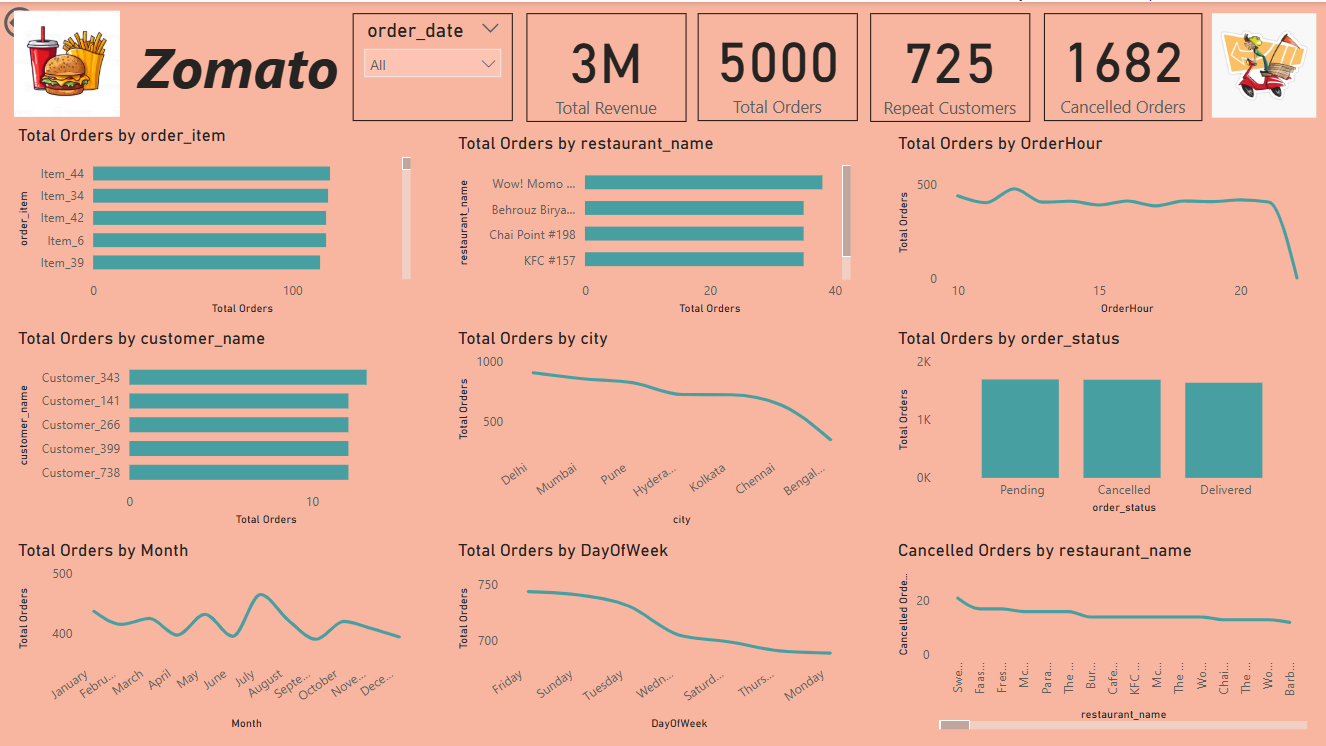

What the dashboard file says about the page in this screenshot:
{"tool":"powerbi","page":{"name":"Page 2","canvas":[1280,720],"ordinal":1},"visuals":[{"type":"card","fields":{"Values":["Measures (2).Total Revenue"]},"box":[509,10.4,154.2,105.1],"z":0},{"type":"card","fields":{"Values":["Measures (2).Total Orders"]},"box":[674.1,10.4,154.2,103.7],"z":1000},{"type":"card","fields":{"Values":["Measures (2).Repeat Customers"]},"box":[840.6,10.4,154.2,105.1],"z":2000},{"type":"card","fields":{"Values":["Measures (2).Cancelled Orders"]},"box":[1008.5,10.4,152.9,103.7],"z":3000},{"type":"actionButton","box":[0,0,100,40],"z":4000},{"type":"slicer","fields":{"Values":["orders.order_date"]},"box":[341.1,10.4,154.2,103.7],"z":5000},{"type":"barChart","fields":{"Y":["Measures (2).Total Orders"],"Category":["orders.order_item"]},"box":[13.6,118.7,389,188.4],"z":6000},{"type":"lineChart","fields":{"Y":["Measures (2).Total Orders"],"Category":["orders.OrderHour"]},"box":[862.6,125.6,405.4,181.5],"z":7000},{"type":"lineChart","fields":{"Category":["restaurants_data.city"],"Y":["Measures (2).Total Orders"]},"box":[438.5,313.9,389,196.5],"z":8000},{"type":"barChart","fields":{"Y":["Measures (2).Total Orders"],"Category":["restaurants_data.restaurant_name"]},"box":[438.5,125.6,389,181.5],"z":9000},{"type":"barChart","fields":{"Category":["customers.customer_name"],"Y":["Measures (2).Total Orders"]},"box":[13.6,313.9,389,196.5],"z":10000},{"type":"columnChart","fields":{"Category":["orders.order_status"],"Y":["Measures (2).Total Orders"]},"box":[862.6,313.9,405.4,185.6],"z":11000},{"type":"lineChart","fields":{"Y":["Measures (2).Total Orders"],"Category":["orders.order_date.Variation.Date Hierarchy.Year","orders.order_date.Variation.Date Hierarchy.Quarter","orders.order_date.Variation.Date Hierarchy.Month","orders.order_date.Variation.Date Hierarchy.Day"]},"box":[13.6,518.7,389,188.4],"z":12000},{"type":"lineChart","fields":{"Y":["Measures (2).Total Orders"],"Category":["orders.DayOfWeek"]},"box":[438.5,518.7,389,188.4],"z":13000},{"type":"image","box":[1161.5,5.5,118.7,110.6],"z":14000},{"type":"image","box":[0,4.1,131,111.9],"z":15000},{"type":"lineChart","fields":{"Category":["restaurants_data.restaurant_name"],"Y":["Measures (2).Cancelled Orders"]},"box":[862.6,518.7,405.4,188.4],"z":16000},{"type":"textbox","box":[120.1,20.5,221.1,94.2],"z":17000}]}

Visuals, with their boxes in screenshot pixels (x1, y1, x2, y2), scaled from the page's 1280x720 canvas onto the 1326x746 screenshot:
card - Measures (2).Total Revenue: {"x1": 527, "y1": 11, "x2": 687, "y2": 120}
card - Measures (2).Total Orders: {"x1": 698, "y1": 11, "x2": 858, "y2": 118}
card - Measures (2).Repeat Customers: {"x1": 871, "y1": 11, "x2": 1031, "y2": 120}
card - Measures (2).Cancelled Orders: {"x1": 1045, "y1": 11, "x2": 1203, "y2": 118}
actionButton: {"x1": 0, "y1": 0, "x2": 104, "y2": 41}
slicer - orders.order_date: {"x1": 353, "y1": 11, "x2": 513, "y2": 118}
barChart - Measures (2).Total Orders x orders.order_item: {"x1": 14, "y1": 123, "x2": 417, "y2": 318}
lineChart - Measures (2).Total Orders x orders.OrderHour: {"x1": 894, "y1": 130, "x2": 1314, "y2": 318}
lineChart - restaurants_data.city x Measures (2).Total Orders: {"x1": 454, "y1": 325, "x2": 857, "y2": 529}
barChart - Measures (2).Total Orders x restaurants_data.restaurant_name: {"x1": 454, "y1": 130, "x2": 857, "y2": 318}
barChart - customers.customer_name x Measures (2).Total Orders: {"x1": 14, "y1": 325, "x2": 417, "y2": 529}
columnChart - orders.order_status x Measures (2).Total Orders: {"x1": 894, "y1": 325, "x2": 1314, "y2": 518}
lineChart - Measures (2).Total Orders x orders.order_date.Variation.Date Hierarchy.Year: {"x1": 14, "y1": 537, "x2": 417, "y2": 733}
lineChart - Measures (2).Total Orders x orders.DayOfWeek: {"x1": 454, "y1": 537, "x2": 857, "y2": 733}
image: {"x1": 1203, "y1": 6, "x2": 1325, "y2": 120}
image: {"x1": 0, "y1": 4, "x2": 136, "y2": 120}
lineChart - restaurants_data.restaurant_name x Measures (2).Cancelled Orders: {"x1": 894, "y1": 537, "x2": 1314, "y2": 733}
textbox: {"x1": 124, "y1": 21, "x2": 353, "y2": 119}
